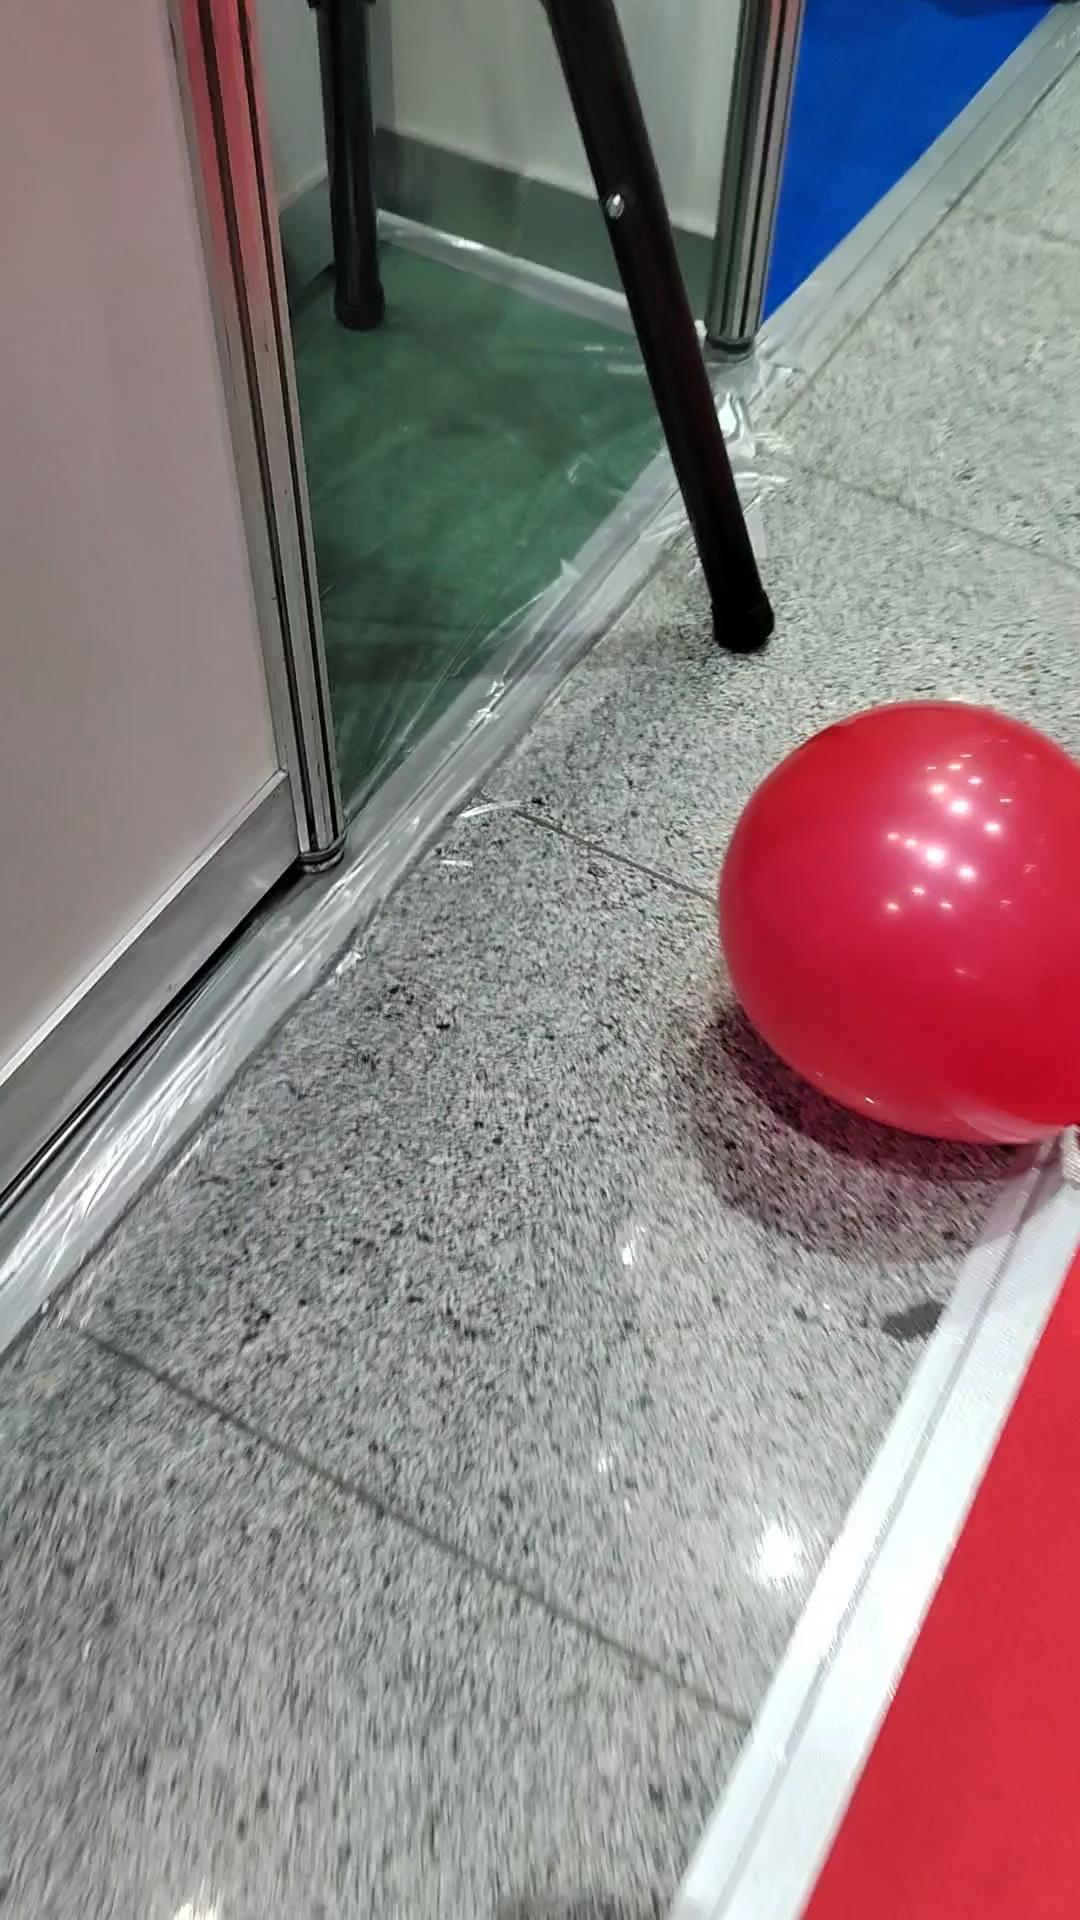red: (716, 698, 1080, 1150)
